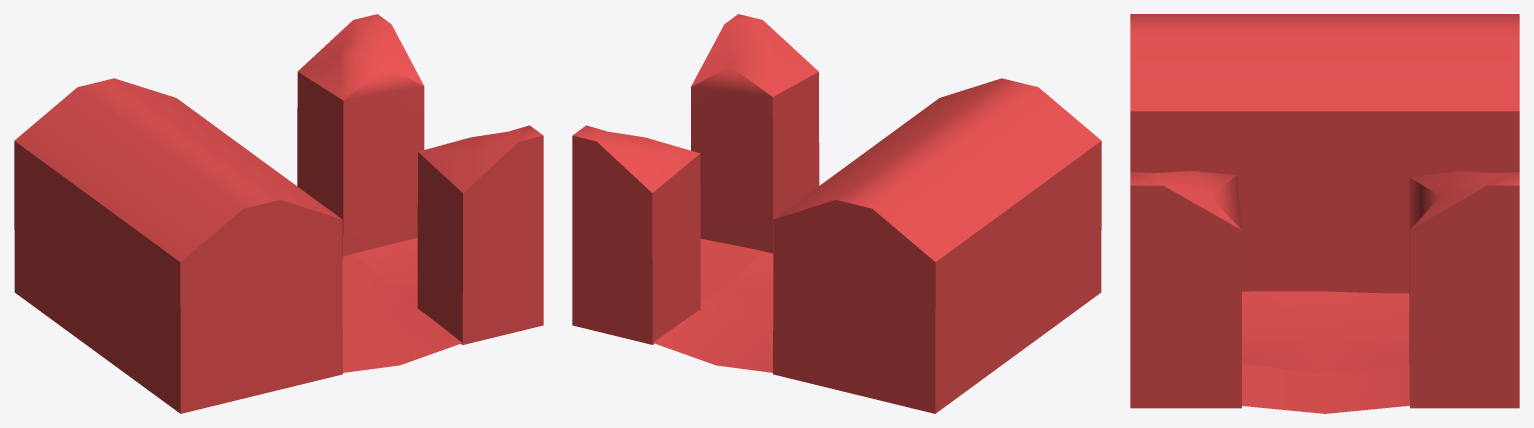
File: Ground_T_Intersection_Wood_COL.fbx
The picture shows the model from 3 angles, left to right: view 1: azimuth 30°, elevation 25°; view 2: azimuth 150°, elevation 25°; view 3: azimuth 270°, elevation 25°; orthographic projection. The views are drawn at different scales.
Visible parts, largest first — view 1: Ground_T_Intersection_Wood_COL; view 2: Ground_T_Intersection_Wood_COL; view 3: Ground_T_Intersection_Wood_COL.
Boxes of the visible parts, x1=… form: Ground_T_Intersection_Wood_COL: x1=14, y1=14, x2=543, y2=413; Ground_T_Intersection_Wood_COL: x1=572, y1=14, x2=1101, y2=413; Ground_T_Intersection_Wood_COL: x1=1130, y1=14, x2=1519, y2=413.
Bounding box in the file's own units: 505 × 266 × 400.
